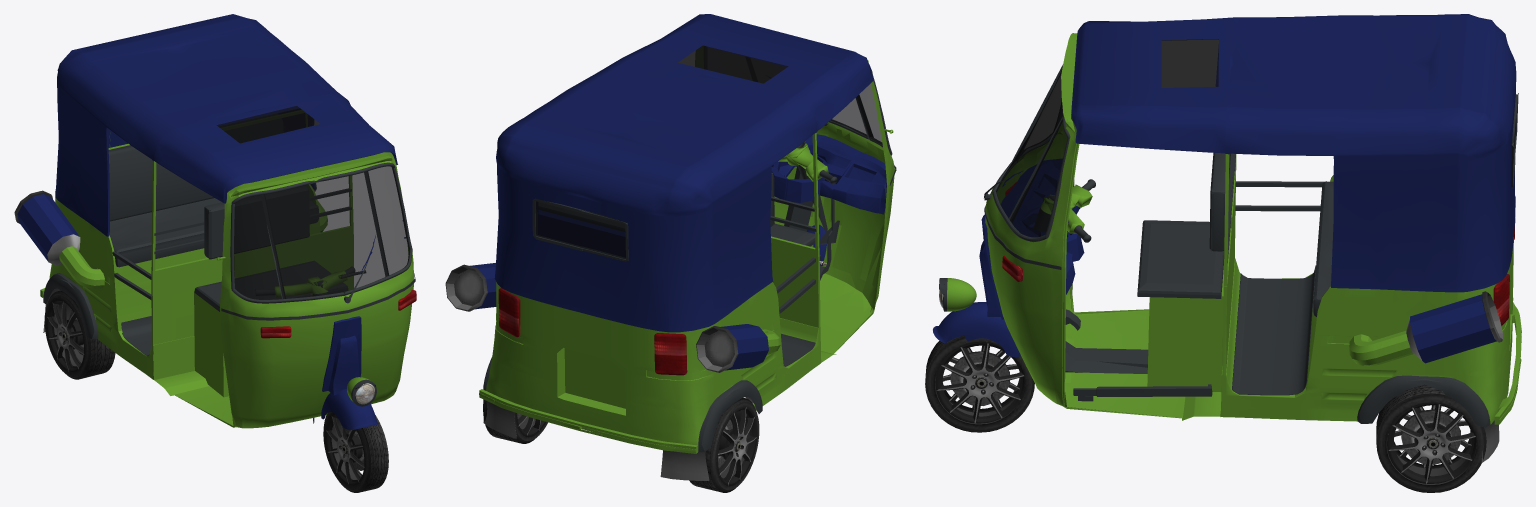
The model's file is rickshaw_1.fbx.
The picture shows the model from 3 angles, left to right: view 1: azimuth 30°, elevation 25°; view 2: azimuth 150°, elevation 25°; view 3: azimuth 270°, elevation 25°; orthographic projection. The views are drawn at different scales.
Parts seen in each view (by area): view 1: W, Group001, tire_front, tire_front001, handle1; view 2: W, Group001, tire_front001, tire_front002, handle1; view 3: W, tire_front002, tire_front, Group001, handle1.
Boxes of the visible parts, left/top/right/bottom form: W: left=40, top=14, right=416, bottom=430; Group001: left=14, top=185, right=327, bottom=288; tire_front: left=323, top=412, right=388, bottom=492; tire_front001: left=44, top=290, right=115, bottom=379; handle1: left=255, top=267, right=365, bottom=297; W: left=479, top=14, right=896, bottom=480; Group001: left=445, top=263, right=780, bottom=372; tire_front001: left=689, top=397, right=759, bottom=492; tire_front002: left=483, top=399, right=547, bottom=443; handle1: left=778, top=141, right=837, bottom=184; W: left=933, top=14, right=1521, bottom=462; tire_front002: left=1376, top=384, right=1486, bottom=492; tire_front: left=925, top=335, right=1034, bottom=432; Group001: left=1349, top=291, right=1502, bottom=366; handle1: left=1041, top=179, right=1095, bottom=242.
Size of the model in its own units: 46.88 by 50.09 by 73.39.
Materials: 3 (2 with a texture image).
